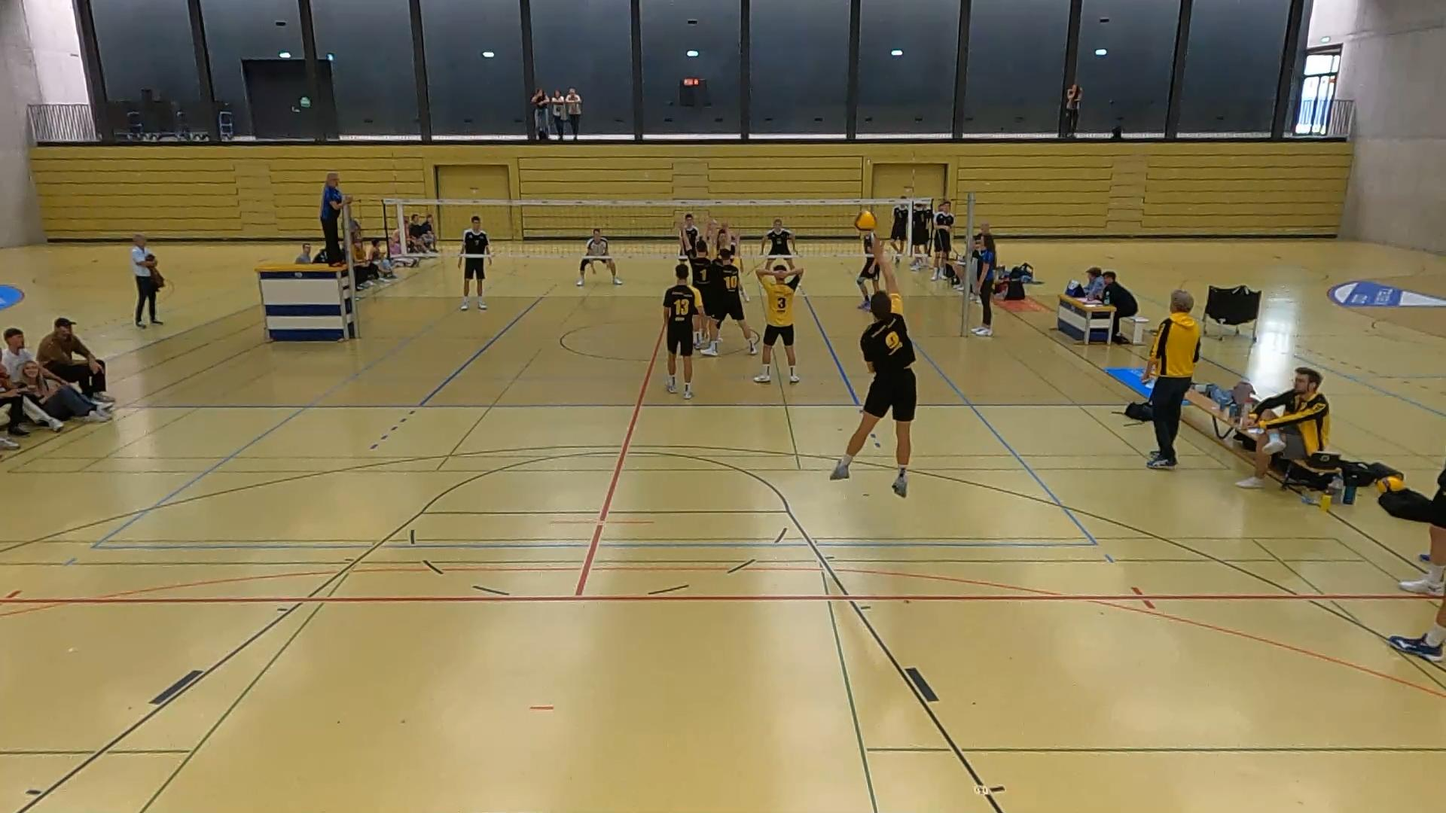battuta: (813, 293, 925, 498)
